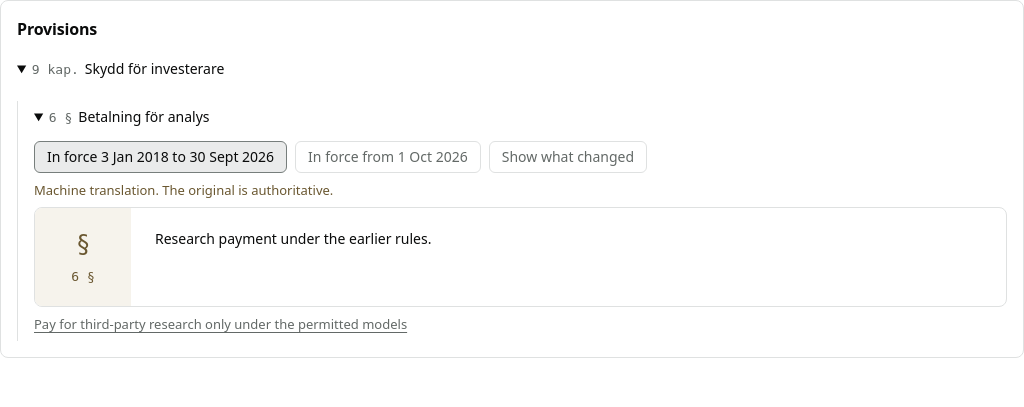
Test: ProvisionTree › leaves the machine translation label off a diff between two texts a person wrote
Check: the heading "6 §Betalning för analys" is shown, box [49, 107, 210, 126]
Click the button "Show what changed" at (568, 157), box [489, 141, 647, 173]
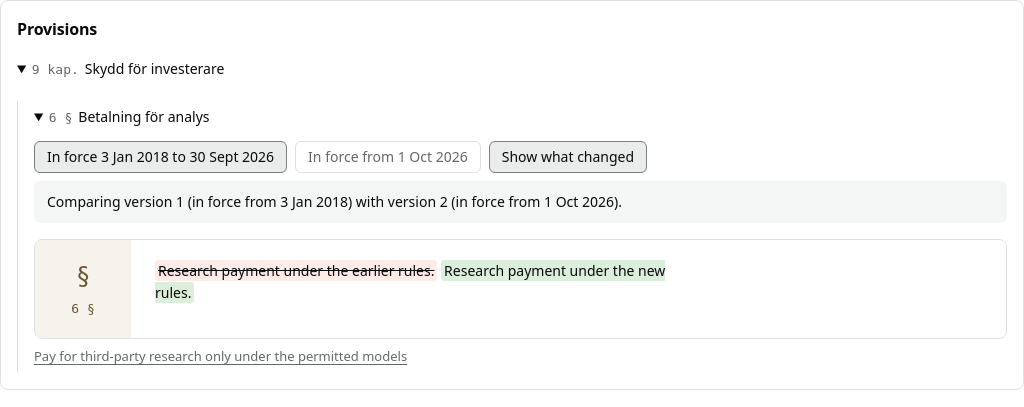
Check: the message is shown, box [34, 181, 1007, 223]
